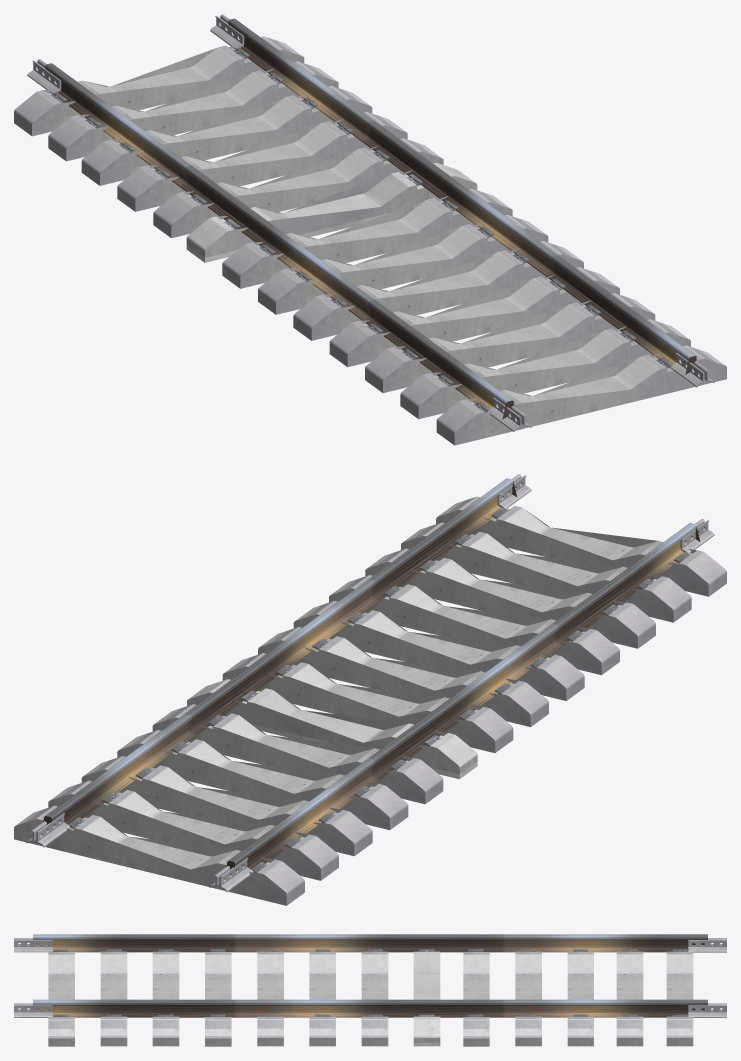
File: Track_Straight.obj
3 views of the same model, one above another, from view 1: azimuth 30°, elevation 25°; view 2: azimuth 150°, elevation 25°; view 3: azimuth 270°, elevation 25° (orthographic). The views are drawn at different scales.
Parts seen in each view (by area): view 1: Mesh17 Group_1_2 Model, Mesh16 Group_1_1 Model, Mesh48 Group_3_7 Sleepers__3_2 Model, Mesh20 Group_2_1 Model, Mesh49 Group_3_8 Sleepers__3_2 Model, Mesh34 Group_3_5 Sleepers__3_1 Model, Mesh64 Group_3_11 Sleepers__3_3 Model, Mesh65 Group_3_12 Sleepers__3_3 Model, Mesh50 Group_3_9 Sleepers__3_2 Model, Mesh5 Group_3_1 Group1 Model, Mesh35 Group_3_6 Sleepers__3_1 Model, Mesh33 Group_3_4 Sleepers__3_1 Model (+3 smaller); view 2: Mesh17 Group_1_2 Model, Mesh16 Group_1_1 Model, Mesh15 Group_3_3 Group3 Model, Mesh50 Group_3_9 Sleepers__3_2 Model, Mesh64 Group_3_11 Sleepers__3_3 Model, Mesh5 Group_3_1 Group1 Model, Mesh35 Group_3_6 Sleepers__3_1 Model, Mesh34 Group_3_5 Sleepers__3_1 Model, Mesh49 Group_3_8 Sleepers__3_2 Model, Mesh63 Group_3_10 Sleepers__3_3 Model, Mesh20 Group_2_1 Model, Mesh33 Group_3_4 Sleepers__3_1 Model (+3 smaller); view 3: Mesh17 Group_1_2 Model, Mesh16 Group_1_1 Model, Mesh20 Group_2_1 Model, Mesh5 Group_3_1 Group1 Model, Mesh10 Group_3_2 Group2 Model, Mesh15 Group_3_3 Group3 Model, Mesh49 Group_3_8 Sleepers__3_2 Model, Mesh50 Group_3_9 Sleepers__3_2 Model, Mesh34 Group_3_5 Sleepers__3_1 Model, Mesh35 Group_3_6 Sleepers__3_1 Model, Mesh64 Group_3_11 Sleepers__3_3 Model, Mesh65 Group_3_12 Sleepers__3_3 Model (+7 smaller).
Boxes of the visible parts, <box> form: Mesh17 Group_1_2 Model: <box>228,18,696,374</box>; Mesh16 Group_1_1 Model: <box>45,63,513,419</box>; Mesh48 Group_3_7 Sleepers__3_2 Model: <box>436,345,726,445</box>; Mesh20 Group_2_1 Model: <box>186,163,477,262</box>; Mesh49 Group_3_8 Sleepers__3_2 Model: <box>400,319,690,419</box>; Mesh34 Group_3_5 Sleepers__3_1 Model: <box>293,241,583,340</box>; Mesh64 Group_3_11 Sleepers__3_3 Model: <box>117,112,407,211</box>; Mesh65 Group_3_12 Sleepers__3_3 Model: <box>81,86,372,185</box>; Mesh50 Group_3_9 Sleepers__3_2 Model: <box>365,293,655,393</box>; Mesh5 Group_3_1 Group1 Model: <box>222,189,512,288</box>; Mesh35 Group_3_6 Sleepers__3_1 Model: <box>258,215,548,314</box>; Mesh33 Group_3_4 Sleepers__3_1 Model: <box>329,267,619,367</box>; Mesh17 Group_1_2 Model: <box>43,478,517,830</box>; Mesh16 Group_1_1 Model: <box>226,523,700,875</box>; Mesh15 Group_3_3 Group3 Model: <box>14,805,304,905</box>; Mesh50 Group_3_9 Sleepers__3_2 Model: <box>365,548,655,648</box>; Mesh64 Group_3_11 Sleepers__3_3 Model: <box>117,730,408,829</box>; Mesh5 Group_3_1 Group1 Model: <box>222,653,513,752</box>; Mesh35 Group_3_6 Sleepers__3_1 Model: <box>258,627,548,727</box>; Mesh34 Group_3_5 Sleepers__3_1 Model: <box>293,601,584,700</box>; Mesh49 Group_3_8 Sleepers__3_2 Model: <box>401,522,691,622</box>; Mesh63 Group_3_10 Sleepers__3_3 Model: <box>152,704,443,804</box>; Mesh20 Group_2_1 Model: <box>187,679,477,779</box>; Mesh33 Group_3_4 Sleepers__3_1 Model: <box>329,575,619,675</box>; Mesh17 Group_1_2 Model: <box>33,999,707,1017</box>; Mesh16 Group_1_1 Model: <box>33,934,707,952</box>; Mesh20 Group_2_1 Model: <box>413,949,440,1046</box>; Mesh5 Group_3_1 Group1 Model: <box>361,951,388,1046</box>; Mesh10 Group_3_2 Group2 Model: <box>616,951,643,1046</box>; Mesh15 Group_3_3 Group3 Model: <box>666,951,693,1046</box>; Mesh49 Group_3_8 Sleepers__3_2 Model: <box>100,951,127,1046</box>; Mesh50 Group_3_9 Sleepers__3_2 Model: <box>152,951,179,1046</box>; Mesh34 Group_3_5 Sleepers__3_1 Model: <box>257,951,283,1046</box>; Mesh35 Group_3_6 Sleepers__3_1 Model: <box>309,951,335,1046</box>; Mesh64 Group_3_11 Sleepers__3_3 Model: <box>515,951,541,1046</box>; Mesh65 Group_3_12 Sleepers__3_3 Model: <box>567,951,593,1046</box>.
Bounding box in the file's own units: 2861 × 415 × 8845.
Materials: 4 (4 with a texture image).
